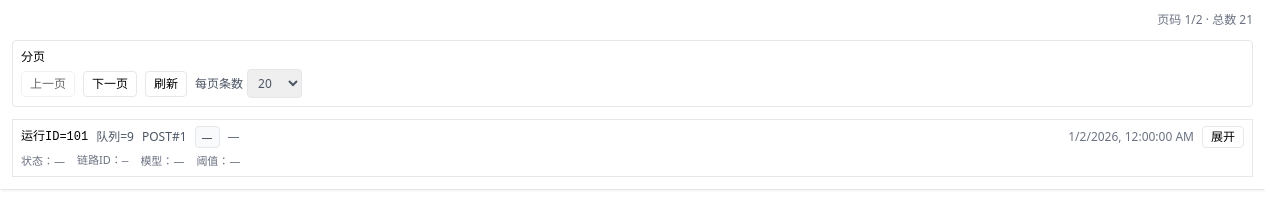
it: ModerationPipelineHistoryPanel › 分页按钮会触发重新加载并更新上一页/下一页可用状态
Check: the button "上一页" is disabled, box [21,70,75,96]
Click the button "下一页".
click(110, 84)  # box [83,70,137,96]
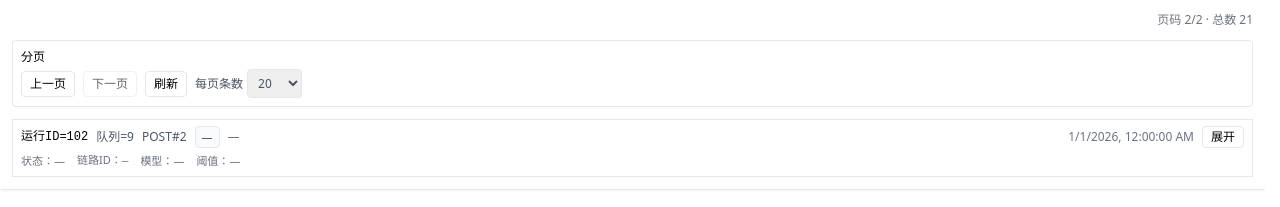
Check: the button "上一页" is enabled, box [21,70,75,96]
